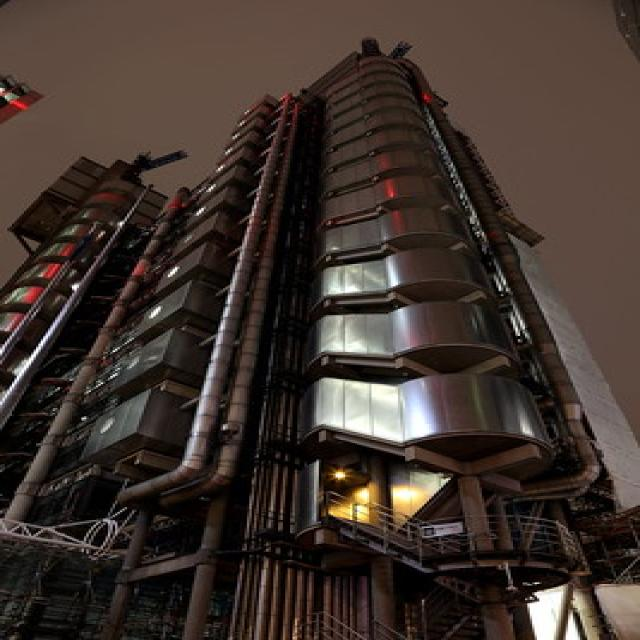building: (6, 38, 605, 640)
